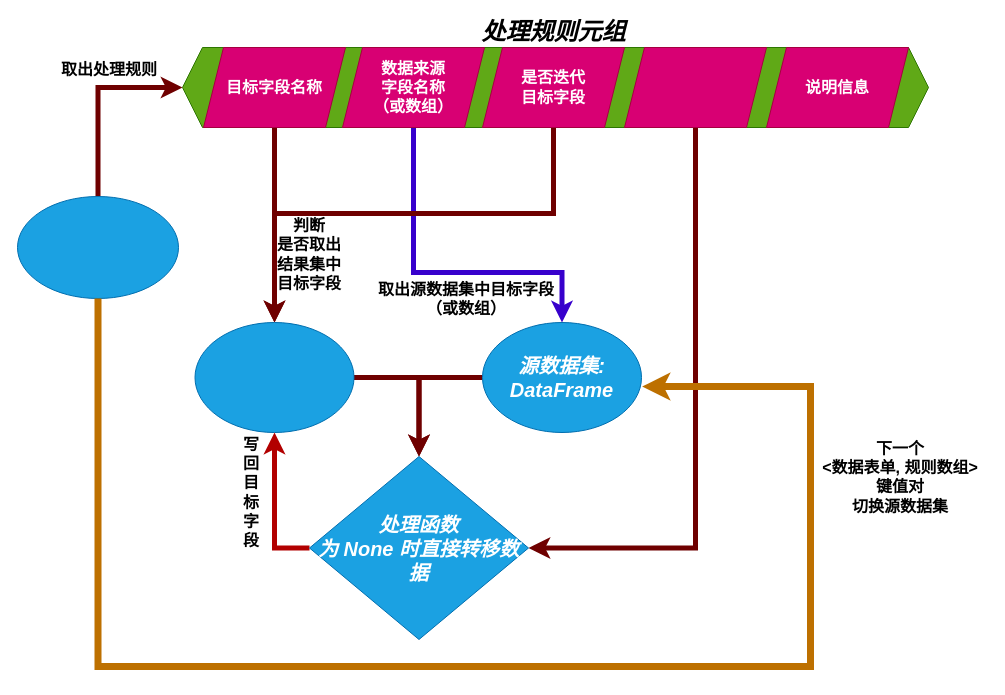
The diagram is 1005 pixels wide and 695 high, and some of its shapes have lost their labels. Here are the shapes that lost their labels. From the top down, the centre of each, then its label:
At pixel 695 87: "处理函数".
At pixel 97 247: "INTAKE_MAP".
At pixel 274 377: "结果集: DataFrame".
